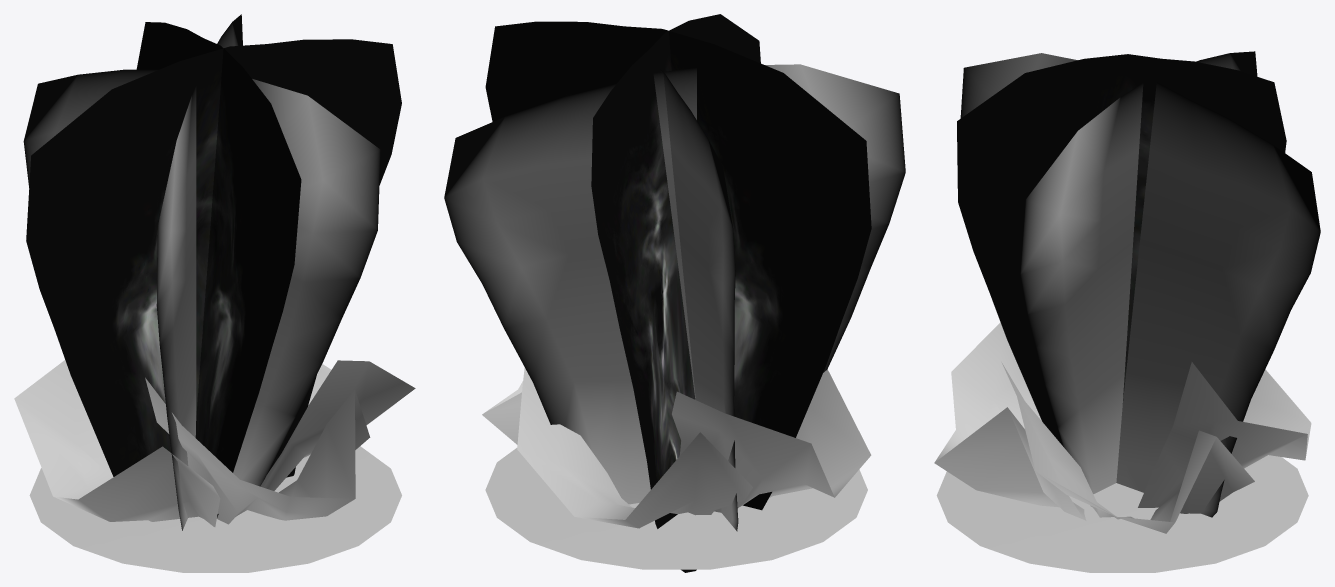
The model's file is effect_mws_atk03_buff_donghua.fbx.
3 views of the same model, side by side, from view 1: azimuth 30°, elevation 25°; view 2: azimuth 150°, elevation 25°; view 3: azimuth 270°, elevation 25° (orthographic). The views are drawn at different scales.
Parts seen in each view (by area): view 1: effect_yanwu_mo, effect_yanwu_mo (1), effect_renzhe_wenli_mo, effect_banyuan_02_mo; view 2: effect_yanwu_mo, effect_yanwu_mo (1), effect_renzhe_wenli_mo, effect_banyuan_02_mo; view 3: effect_yanwu_mo (1), effect_yanwu_mo, effect_renzhe_wenli_mo, effect_banyuan_02_mo.
Part boxes in pixels (bbox=[...]): effect_yanwu_mo: bbox=[26, 22, 401, 517]; effect_yanwu_mo (1): bbox=[23, 14, 380, 530]; effect_renzhe_wenli_mo: bbox=[14, 360, 415, 526]; effect_banyuan_02_mo: bbox=[29, 446, 401, 572]; effect_yanwu_mo: bbox=[485, 14, 871, 572]; effect_yanwu_mo (1): bbox=[444, 64, 905, 531]; effect_renzhe_wenli_mo: bbox=[482, 367, 871, 528]; effect_banyuan_02_mo: bbox=[485, 448, 867, 569]; effect_yanwu_mo (1): bbox=[960, 51, 1320, 517]; effect_yanwu_mo: bbox=[957, 54, 1286, 446]; effect_renzhe_wenli_mo: bbox=[934, 322, 1311, 533]; effect_banyuan_02_mo: bbox=[936, 455, 1308, 572].
Bounding box in the file's own units: 1.96 × 2.54 × 1.75.
